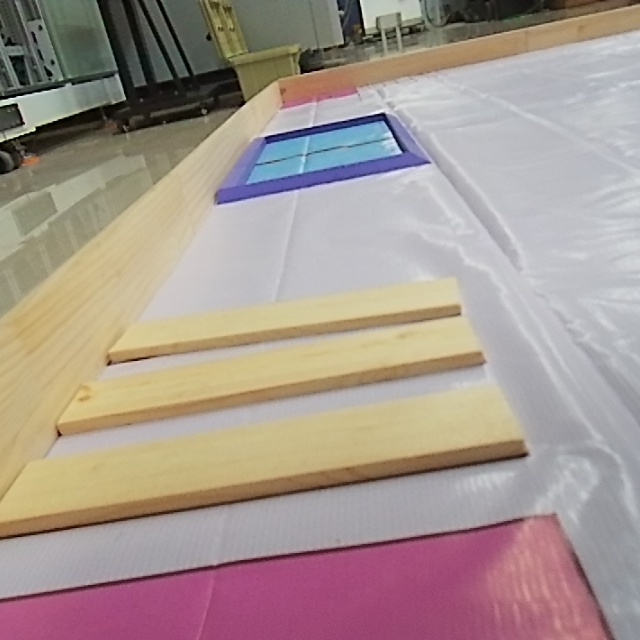zone2: (216, 108, 438, 206)
